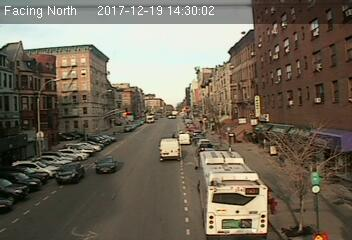bus: (198, 149, 271, 238)
car: (54, 163, 84, 184), (94, 156, 117, 173)
truck: (158, 137, 181, 162), (176, 130, 191, 145)
